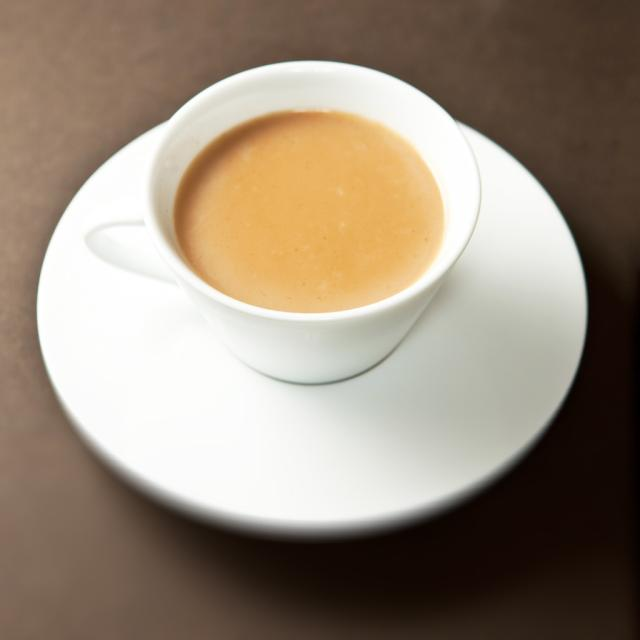chai: (137, 55, 483, 323)
